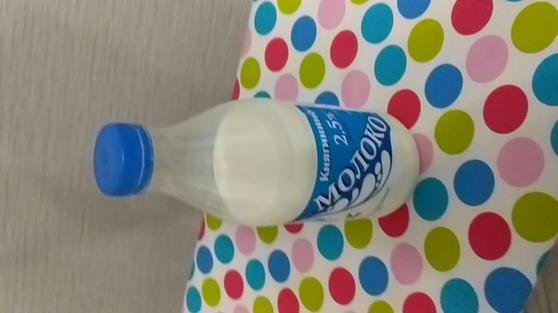milk: (78, 95, 429, 233)
